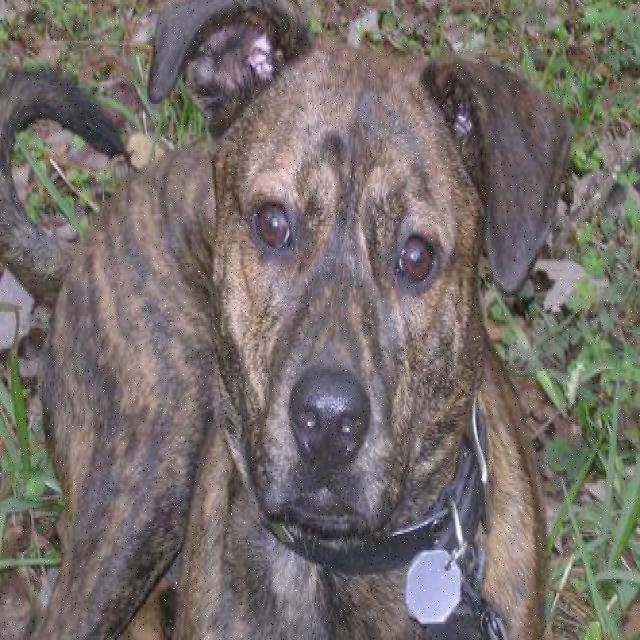Dog: (142, 0, 583, 569)
